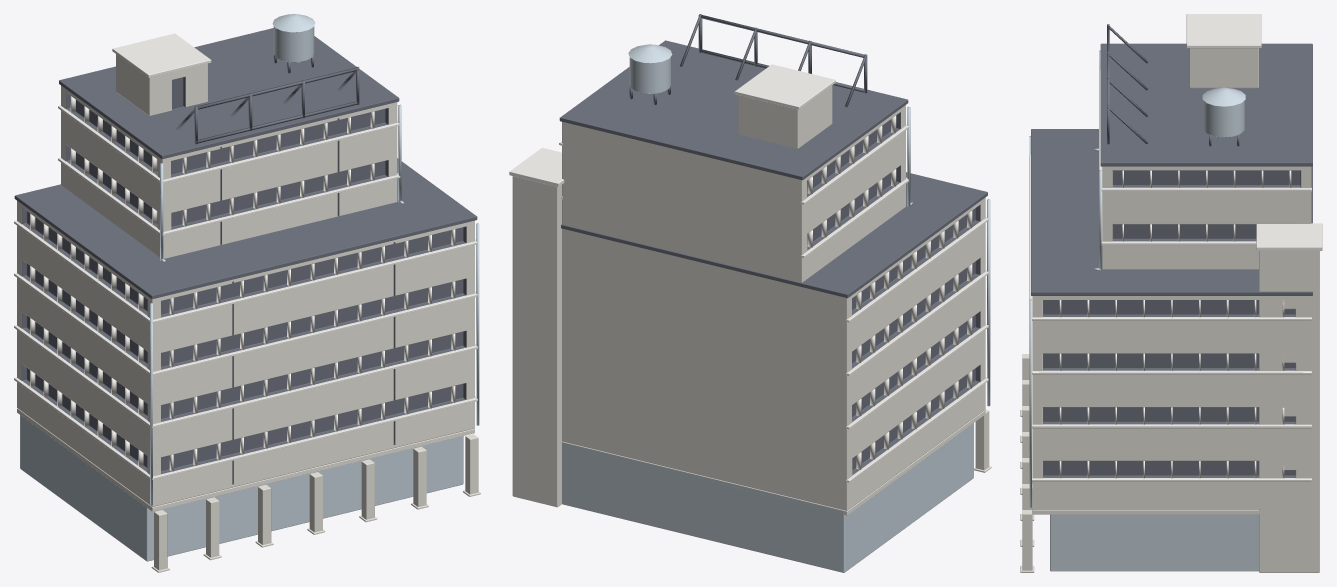
Rendered from yongle.glb.
The picture shows the model from 3 angles, left to right: view 1: azimuth 30°, elevation 25°; view 2: azimuth 150°, elevation 25°; view 3: azimuth 270°, elevation 25°; orthographic projection. The views are drawn at different scales.
Visible parts, largest first — view 1: main; view 2: main; view 3: main.
Part boxes in pixels (x1=…): main: x1=14, y1=14, x2=480, y2=572; main: x1=509, y1=14, x2=991, y2=572; main: x1=1020, y1=14, x2=1322, y2=572.
Size of the model in its own units: 22.38 by 27.85 by 17.35.
